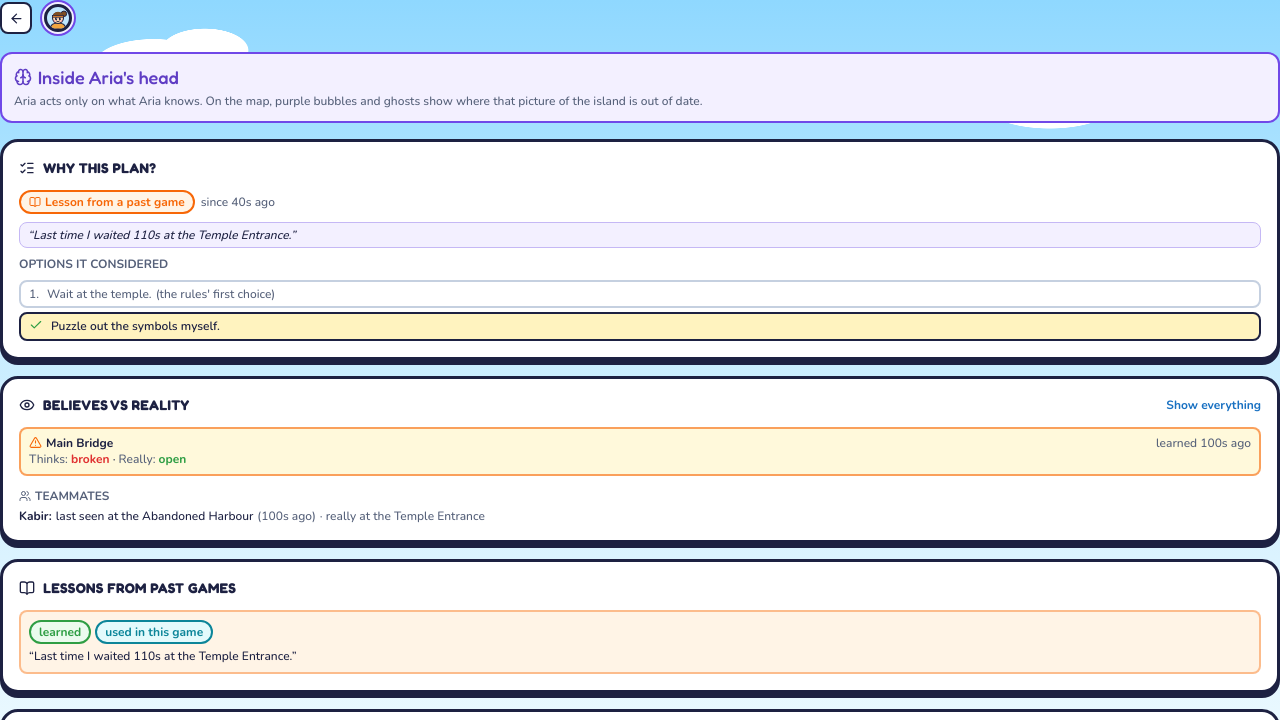
MindPanel › shows only what is out of date until asked for everything
expect the text "broken" is shown: met, box left=71, top=451, right=110, bottom=467
expect the text "Coast Road" is not shown: met
Click the button "Show everything".
click(1214, 404)  # box left=1166, top=396, right=1261, bottom=412
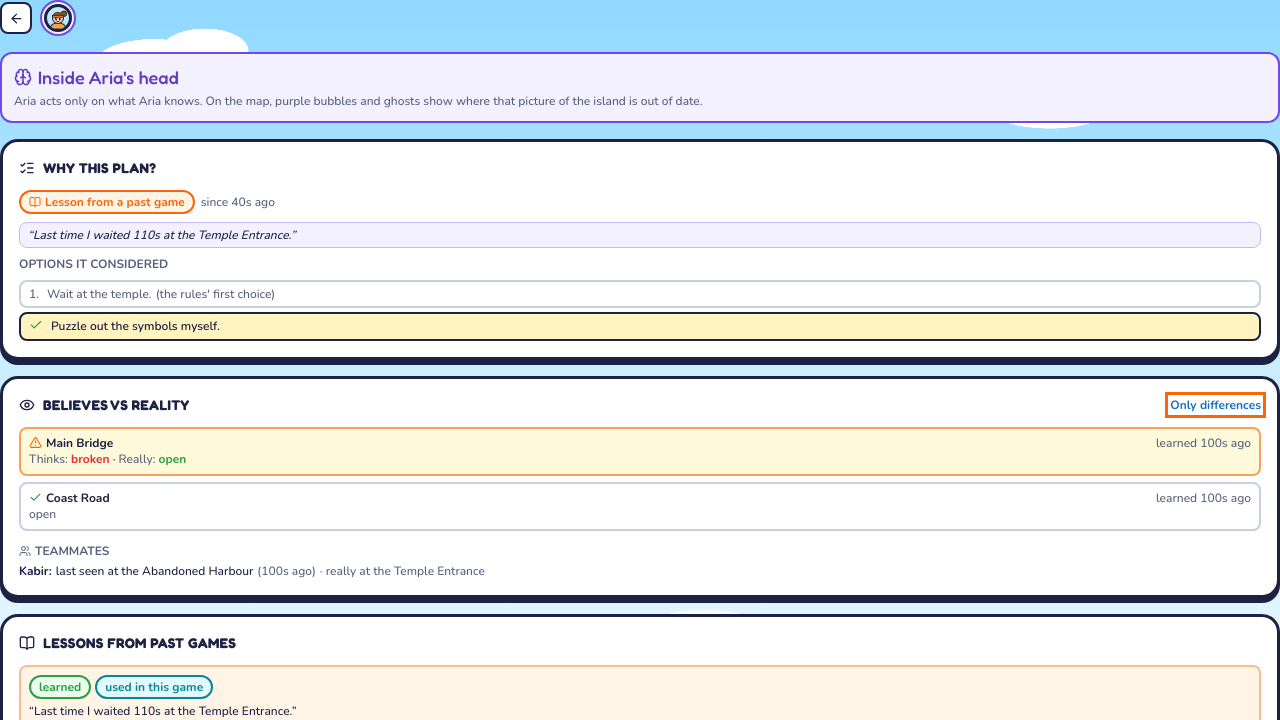
expect the text "Coast Road" is shown: met, box left=46, top=490, right=110, bottom=506
